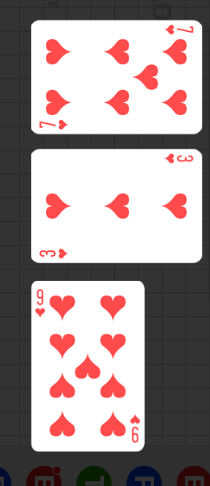7H: (163, 24, 195, 37)
9H: (34, 288, 47, 320), (129, 413, 141, 444)
